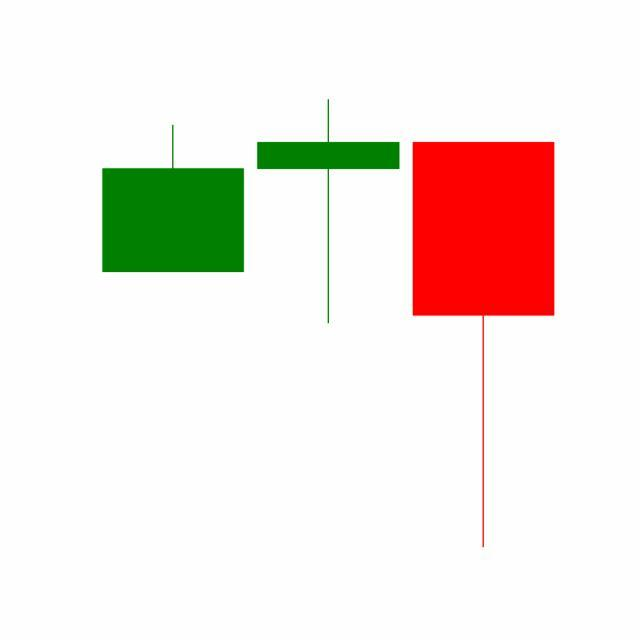Spinning Top: (250, 97, 407, 327)
